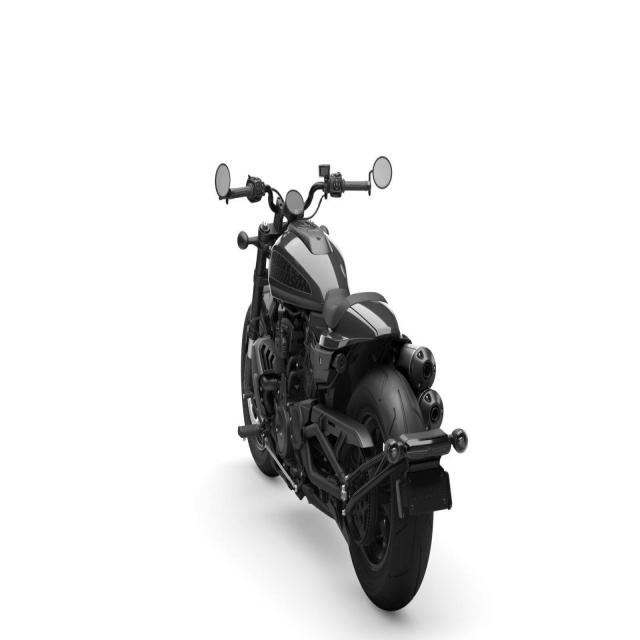Motorcycle: (213, 166, 466, 614)
